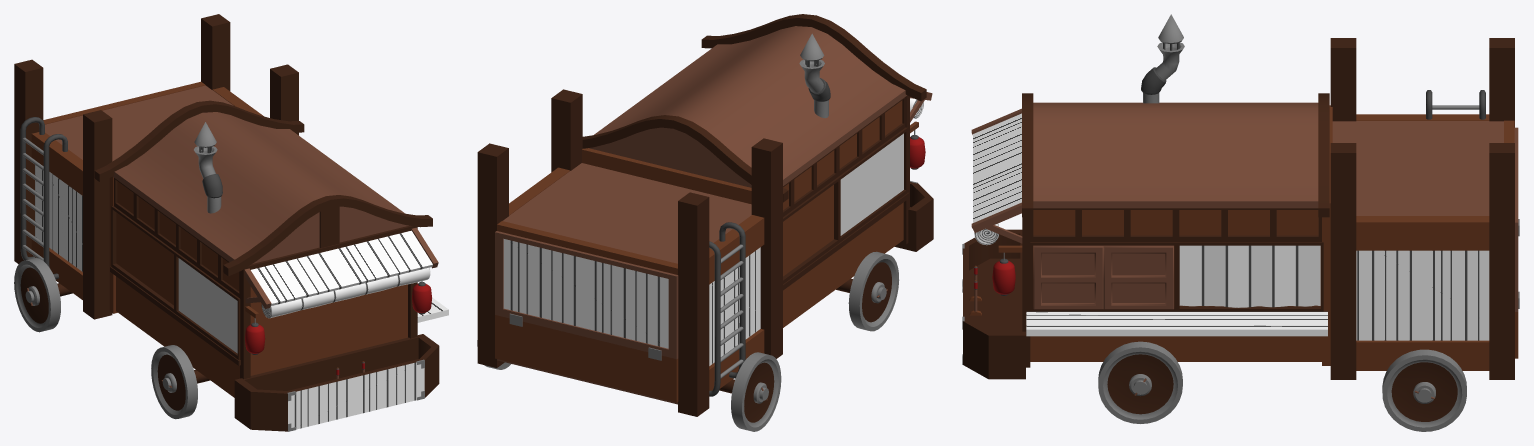
The model's file is Cart.glb.
3 renders of one model, left to right at view 1: azimuth 30°, elevation 25°; view 2: azimuth 150°, elevation 25°; view 3: azimuth 270°, elevation 25°, orthographic. The views are drawn at different scales.
Visible parts, largest first — view 1: Cart, Front_Right_Wheel, Rear_Right_Wheel; view 2: Cart, Rear_Door, Rear_Right_Wheel, Front_Right_Wheel; view 3: Cart, Blinds, Rear_Left_Wheel, Front_Left_Wheel, Rear_Door.
Boxes of the visible parts, box(x1,y1,x2,y2) form: Cart: box(14, 14, 448, 431); Front_Right_Wheel: box(151, 345, 197, 419); Rear_Right_Wheel: box(14, 258, 60, 332); Cart: box(477, 14, 933, 416); Rear_Door: box(495, 231, 678, 359); Rear_Right_Wheel: box(731, 352, 781, 431); Front_Right_Wheel: box(848, 251, 899, 331); Cart: box(962, 14, 1519, 379); Blinds: box(1179, 245, 1320, 307); Rear_Left_Wheel: box(1382, 349, 1466, 431); Front_Left_Wheel: box(1098, 341, 1182, 423); Rear_Door: box(1514, 127, 1519, 311).
Bounding box in the file's own units: 2.7 × 2.77 × 4.44.
Materials: 11 (3 with a texture image).
